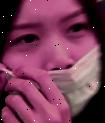mask_weared_incorrect: (2, 2, 105, 123)
